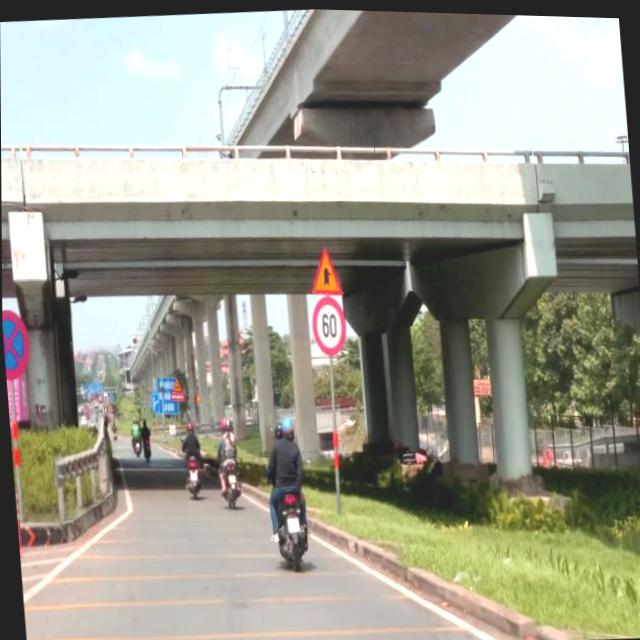Cam dung xe va do xe: (2, 305, 33, 385)
Di cham: (172, 376, 182, 391)
Giao nhau voi duong khong uu tien ben phai: (303, 239, 342, 298)
Toc do toi da cho phep: (308, 292, 349, 355)
